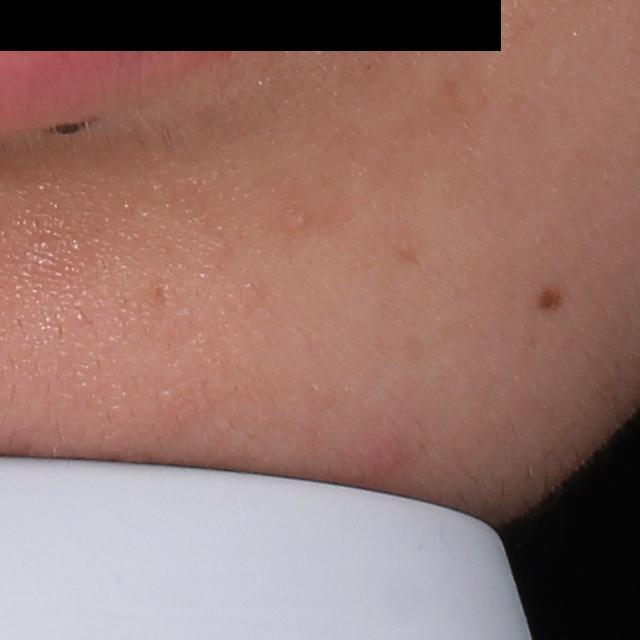nevus: (535, 283, 565, 312)
